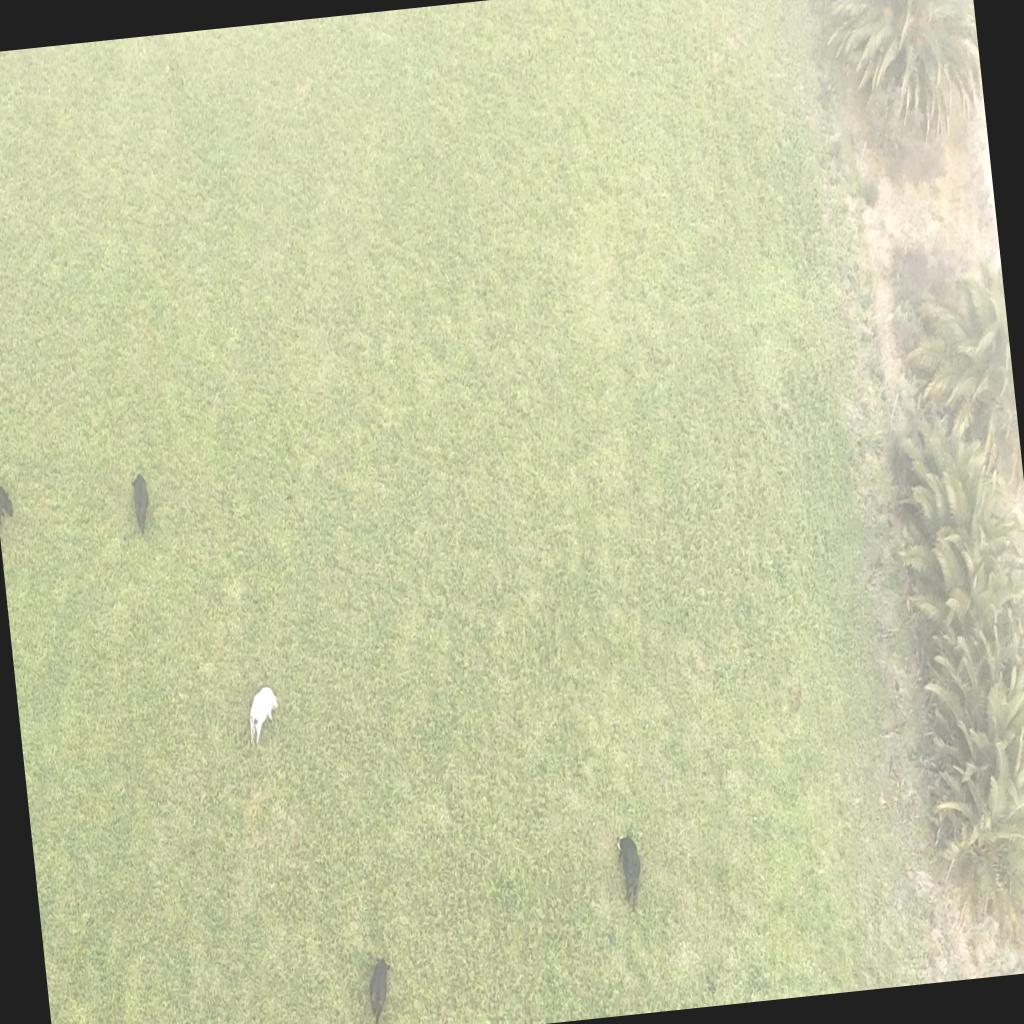cow: (241, 680, 285, 752), (613, 828, 647, 913), (362, 957, 397, 1024), (127, 466, 154, 538), (0, 474, 18, 538)
